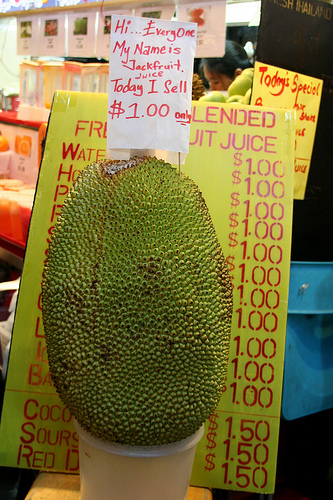jackfruit: (41, 157, 235, 445)
